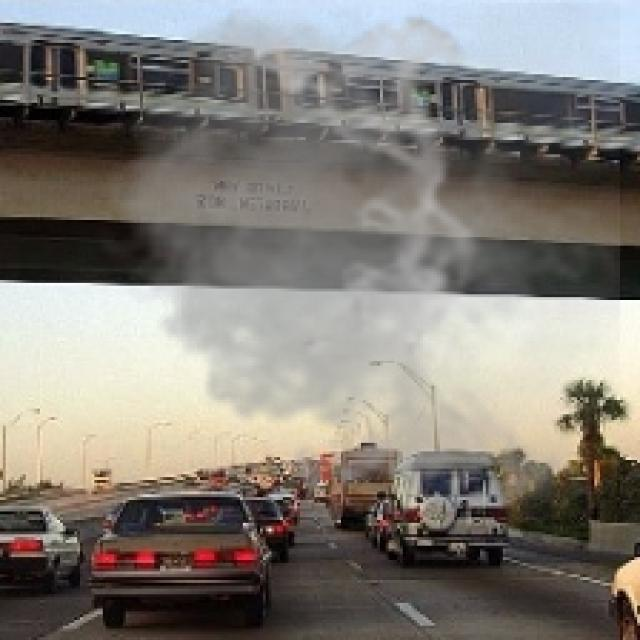smoke: (86, 3, 620, 526)
